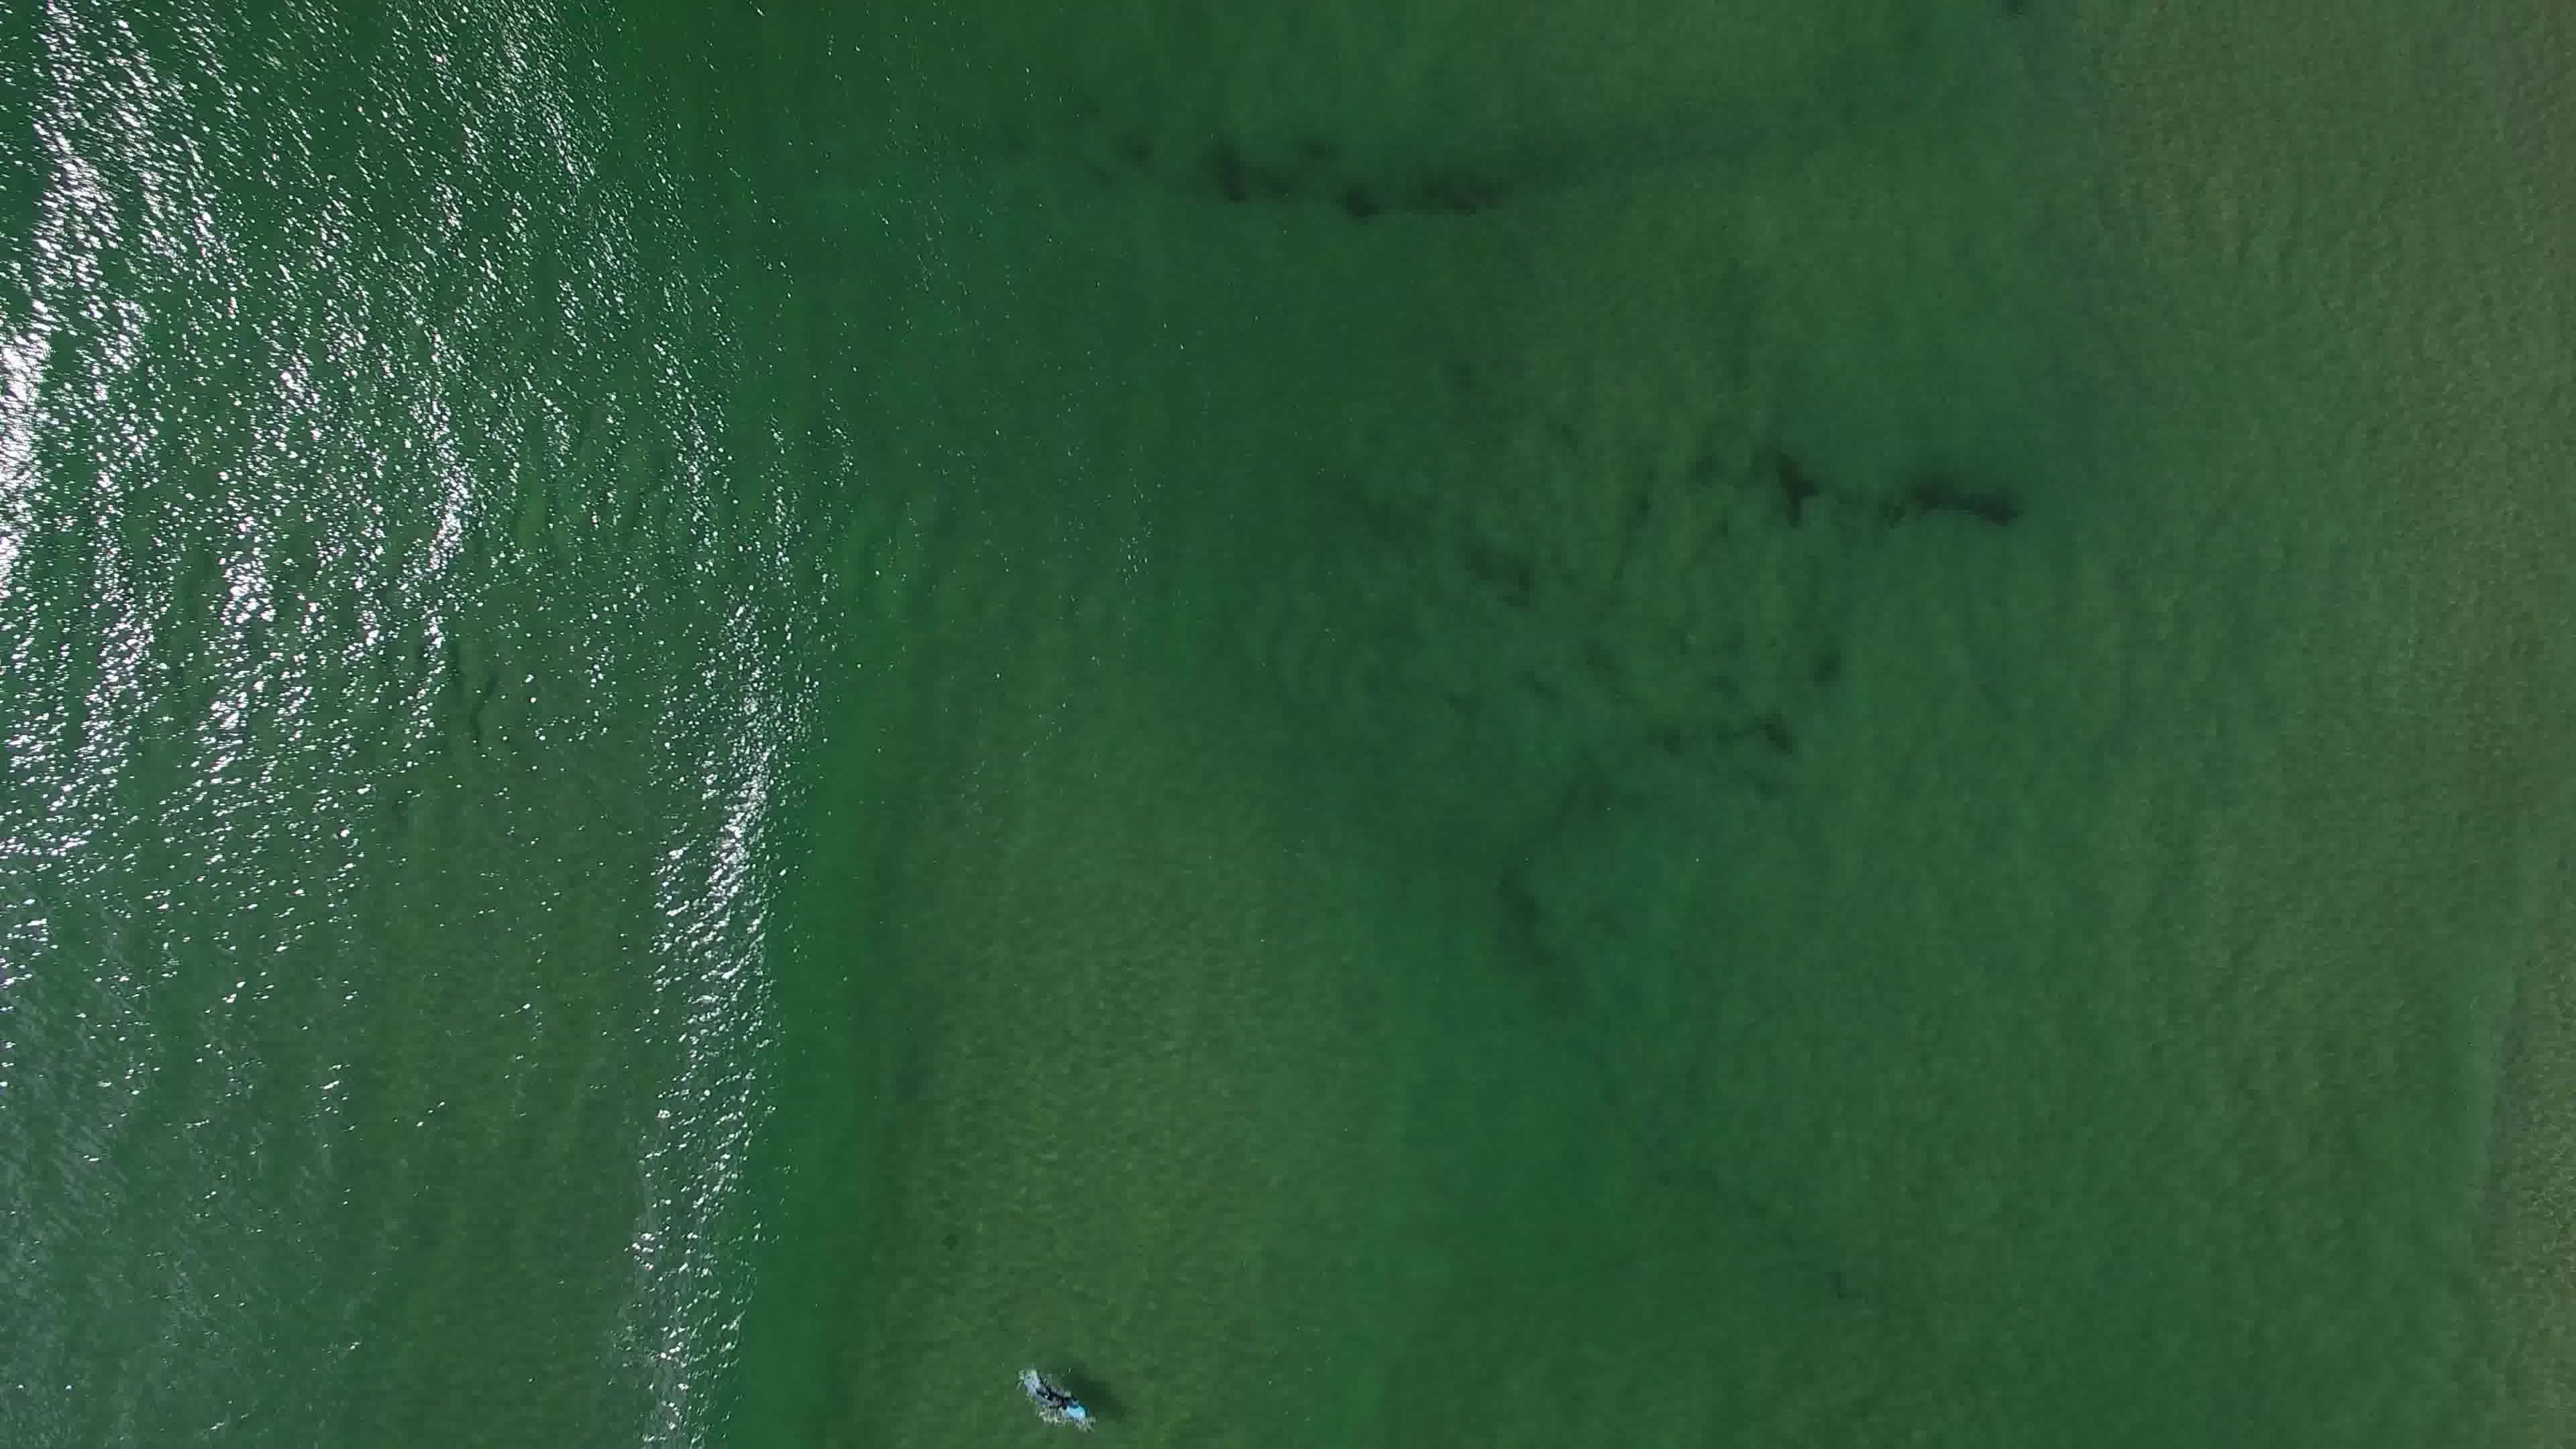surfer: (1007, 1361, 1100, 1428)
